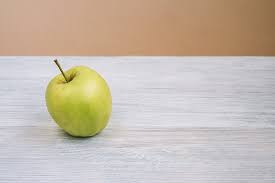apple: (46, 68, 113, 136)
